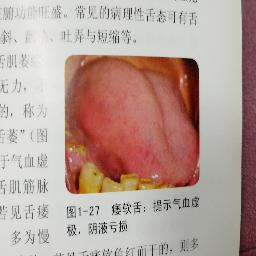tongue: (75, 59, 197, 186)
